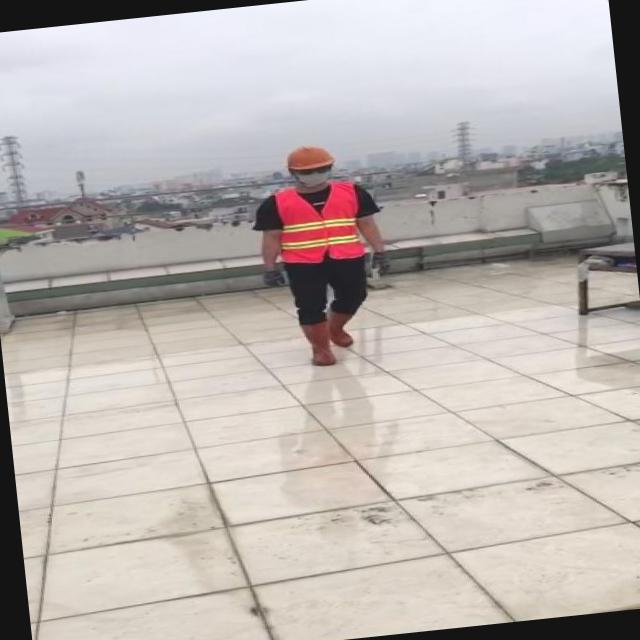boots: (298, 318, 339, 368), (322, 308, 357, 349)
gloves: (366, 236, 401, 293), (253, 264, 296, 307)
helmet: (280, 142, 337, 174)
vest: (276, 182, 366, 266)
